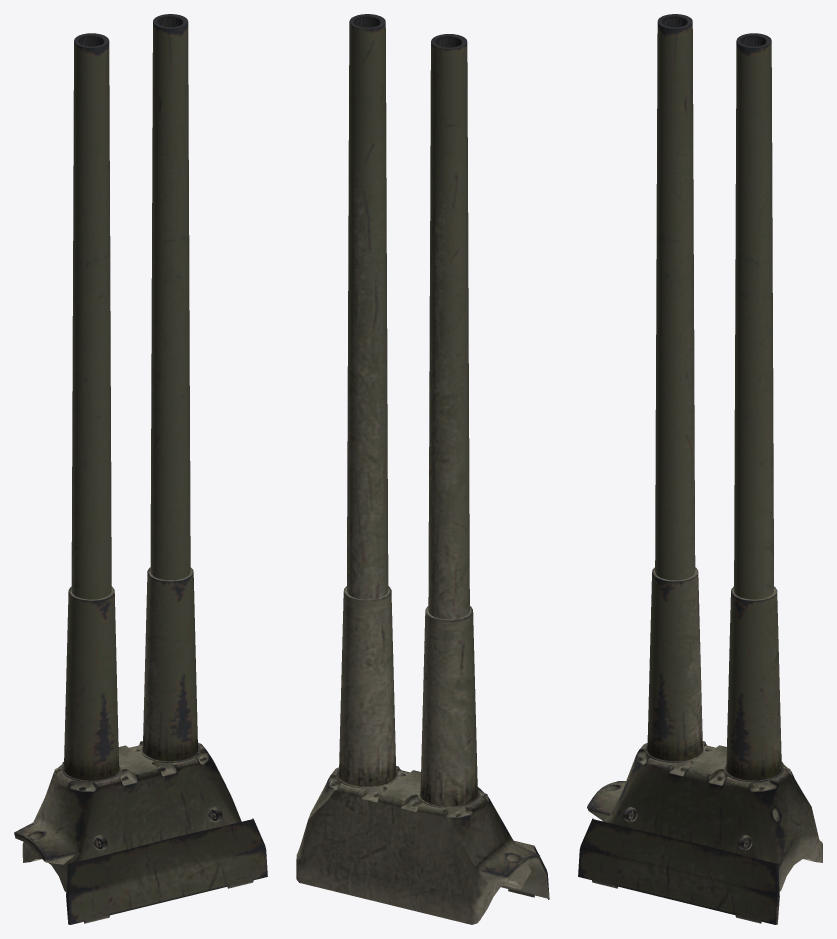
The model's file is Gun_05.glb.
The picture shows the model from 3 angles, left to right: view 1: azimuth 30°, elevation 25°; view 2: azimuth 150°, elevation 25°; view 3: azimuth 330°, elevation 25°; orthographic projection. The views are drawn at different scales.
Visible parts, largest first — view 1: set_0_group_0; view 2: set_0_group_0; view 3: set_0_group_0.
Boxes of the visible parts, x1,y1,x2,y2 form: set_0_group_0: [14, 14, 267, 924]; set_0_group_0: [296, 14, 549, 924]; set_0_group_0: [578, 14, 822, 924].
Bounding box in the file's own units: 1.15 × 4.49 × 0.5816.
Materials: 1 (1 with a texture image).
